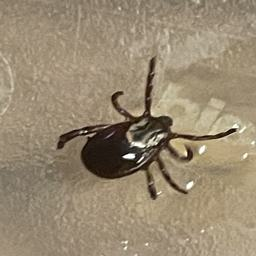Dermacentor variabilis: (56, 55, 239, 200)
